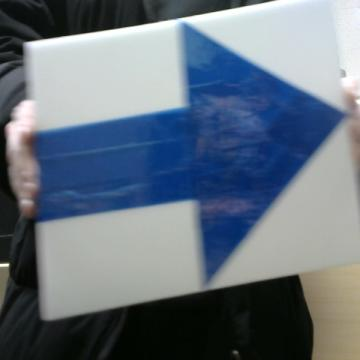blue_right: (38, 22, 341, 283)
